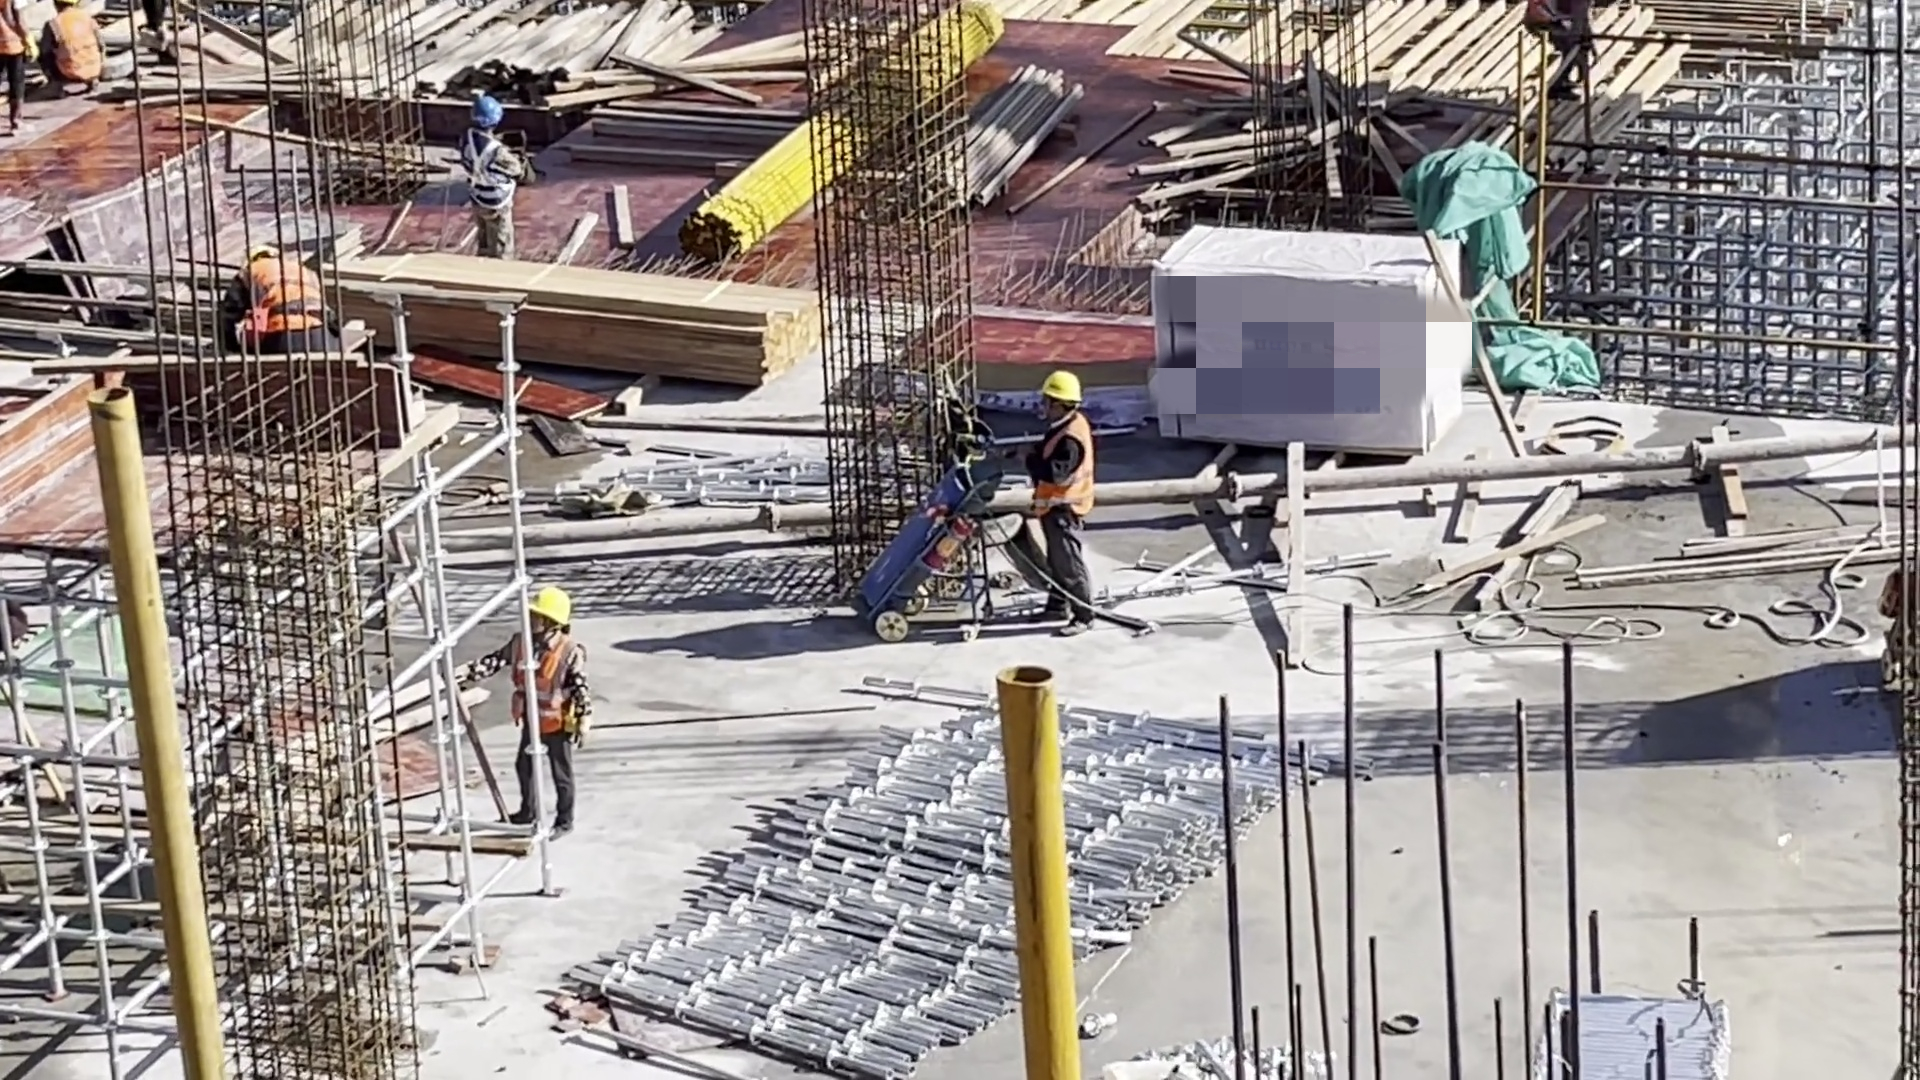helmet: (526, 590, 572, 621), (1037, 372, 1085, 401), (473, 91, 502, 123)
person: (481, 591, 601, 850), (1019, 371, 1114, 638), (222, 239, 344, 360), (460, 93, 533, 261), (1519, 4, 1606, 111), (38, 1, 107, 82), (4, 2, 30, 131)
scaffold: (561, 675, 1377, 1063)
vest: (1032, 416, 1099, 523), (511, 631, 580, 731), (252, 256, 324, 330), (47, 9, 103, 79), (466, 134, 517, 205)
wood: (336, 246, 826, 382)
